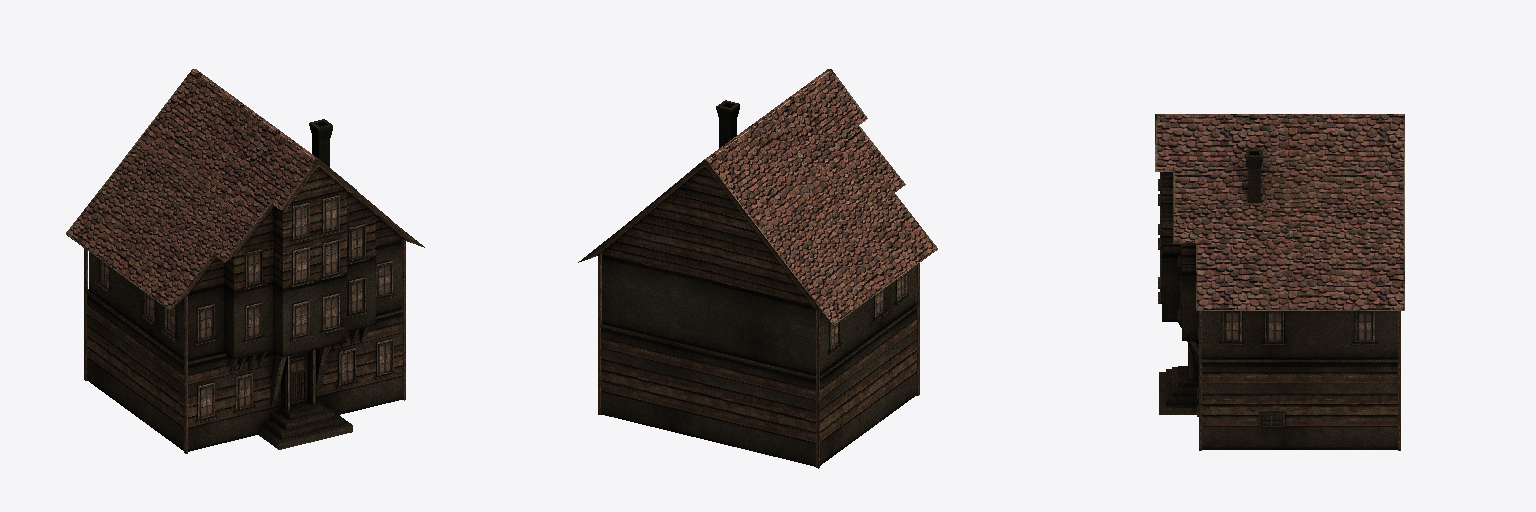
3 views of the same model, side by side, from view 1: azimuth 30°, elevation 25°; view 2: azimuth 150°, elevation 25°; view 3: azimuth 270°, elevation 25° (orthographic).
Parts seen in each view (by area): view 1: house; view 2: house; view 3: house.
Boxes of the visible parts, box(x1,y1,x2,y2) form: house: box(66, 69, 424, 453); house: box(578, 69, 937, 468); house: box(1155, 114, 1404, 450).
Bounding box in the file's own units: 6.41 × 6.75 × 5.42.
1 materials, 1 textured.